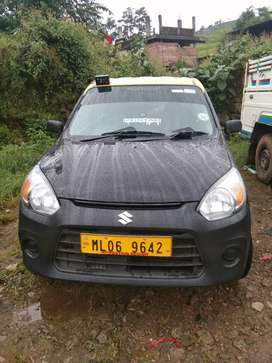ML069642: (80, 232, 171, 257)
